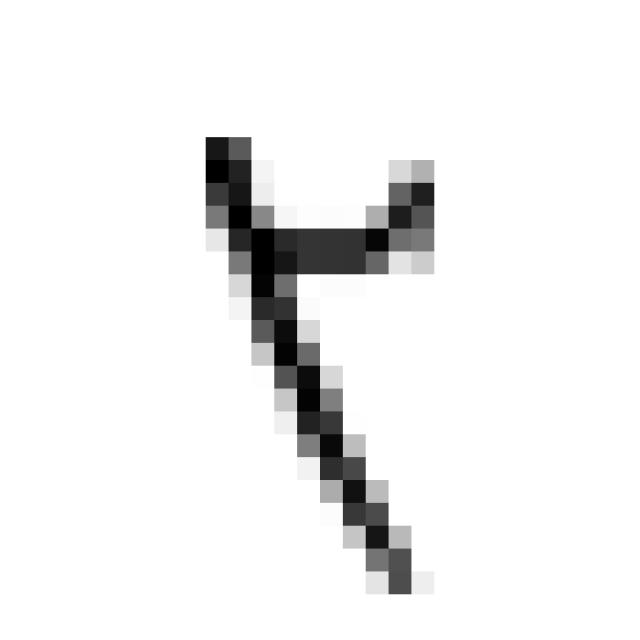3 -three-: (183, 114, 454, 611)
